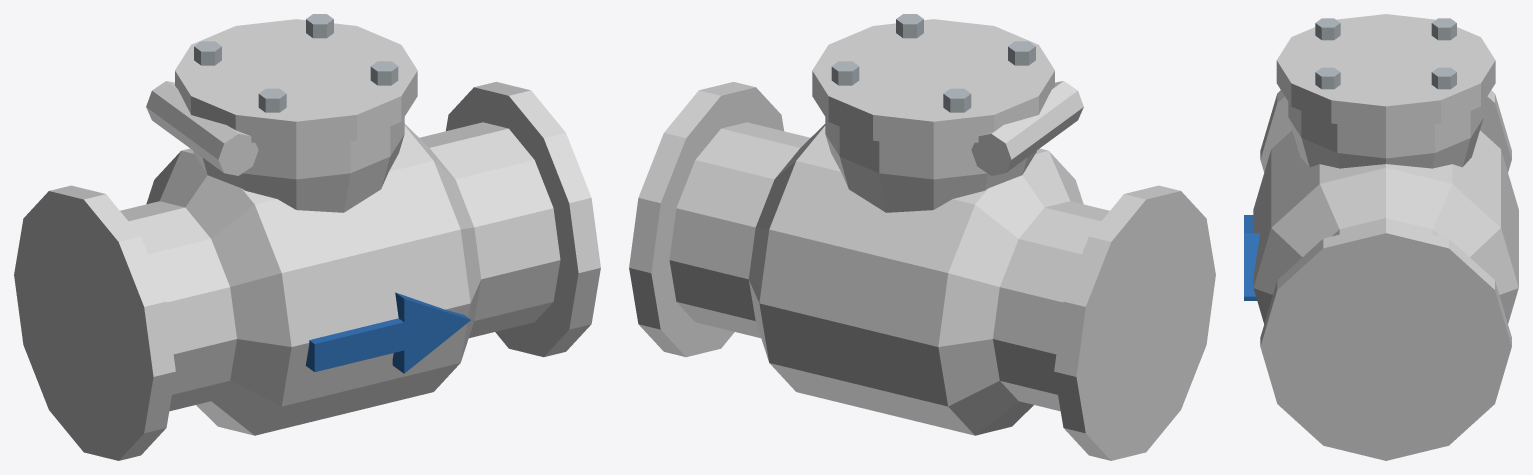
Rendered from valve-check.glb.
The picture shows the model from 3 angles, left to right: view 1: azimuth 30°, elevation 25°; view 2: azimuth 150°, elevation 25°; view 3: azimuth 270°, elevation 25°; orthographic projection. The views are drawn at different scales.
Visible parts, largest first — view 1: body, in.flange, cover.cap, out.stub, out.flange, in.stub, cover.hump, flow.arrow, cover.hinge, cover.bolt.2, cover.bolt.3, cover.bolt.0 (+1 smaller); view 2: body, in.flange, cover.cap, out.stub, out.flange, in.stub, cover.hump, cover.hinge, cover.bolt.0, cover.bolt.1, cover.bolt.2, cover.bolt.3; view 3: out.flange, body, cover.cap, cover.hump, in.flange, flow.arrow, out.stub, cover.bolt.0, cover.bolt.3, cover.bolt.2, cover.bolt.1.
Boxes of the visible parts, x1,y1,x2,y2 form: body: (146,124,481,435); in.flange: (14,185,175,460); cover.cap: (175,19,417,147); out.stub: (419,122,560,338); out.flange: (446,82,600,357); in.stub: (120,201,236,411); cover.hump: (193,117,404,212); flow.arrow: (305,292,470,373); cover.hinge: (146,81,258,175); cover.bolt.2: (258,88,286,112); cover.bolt.3: (370,61,398,85); cover.bolt.0: (194,41,221,65); body: (748,124,1083,435); in.flange: (1054,185,1215,460); cover.cap: (812,19,1054,147); out.stub: (669,122,810,338); out.flange: (629,82,783,357); in.stub: (993,201,1109,411); cover.hump: (825,117,1036,212); cover.hinge: (971,81,1083,175); cover.bolt.0: (943,88,971,112); cover.bolt.1: (831,61,859,85); cover.bolt.2: (1008,41,1035,65); cover.bolt.3: (896,14,923,38); out.flange: (1260,223,1511,460); body: (1253,130,1518,323); cover.cap: (1276,14,1495,129); cover.hump: (1288,102,1483,168); in.flange: (1260,90,1511,172); flow.arrow: (1244,215,1260,300); out.stub: (1332,218,1440,236); cover.bolt.0: (1431,18,1456,40); cover.bolt.3: (1315,67,1340,89); cover.bolt.2: (1315,18,1340,40); cover.bolt.1: (1431,67,1456,89).
Bounding box in the file's own units: 1 × 0.75 × 0.59.
